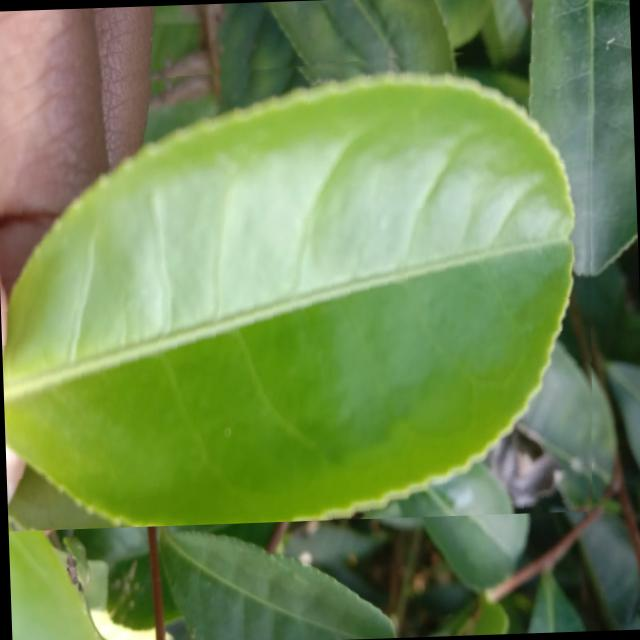Category B 2-4 days: (0, 40, 605, 531)
